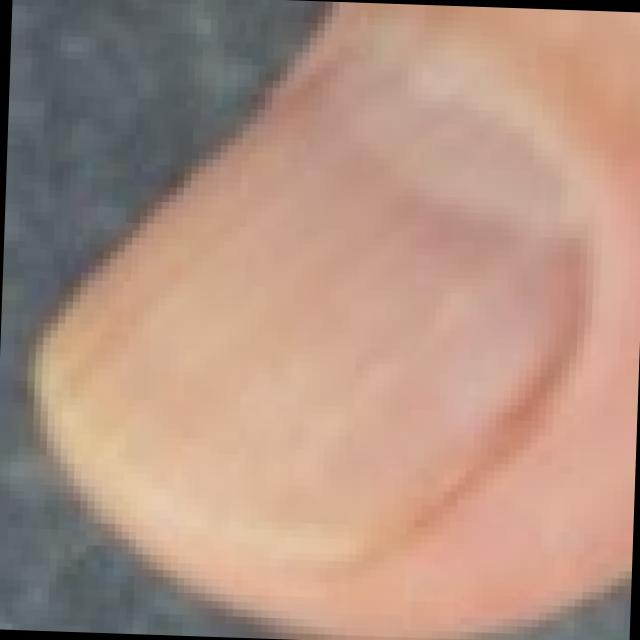Nail: (41, 40, 590, 563)
